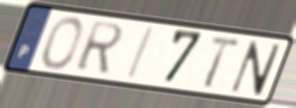7: (162, 27, 205, 87)
I: (123, 25, 157, 82)
N: (227, 39, 284, 97)
O: (40, 15, 84, 71)
R: (73, 19, 127, 75)
T: (201, 34, 244, 90)
